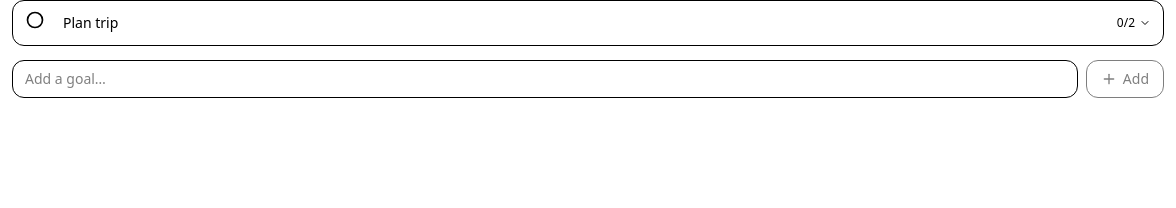
Test: GoalsList - Subtasks › shows existing subtasks exactly once after committing a new one
Click the button named "Show subtasks" at (1134,23), box [1117,15,1151,31]
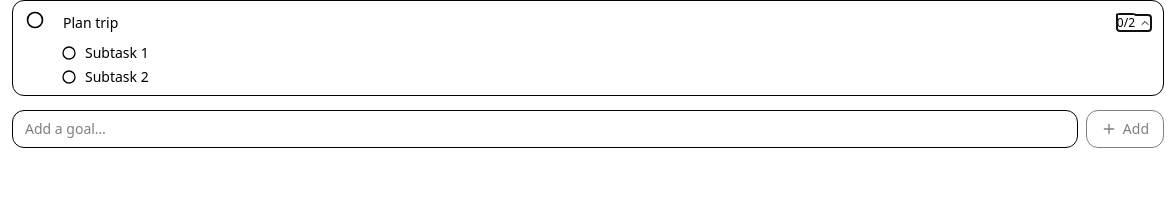
Click the button "Plan trip" at (91,22), box [55,9,1107,37]
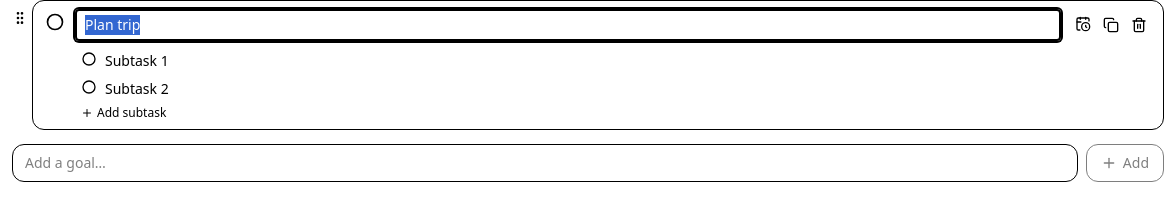
Click the button "Add subtask" at (124,113), box [81,105,166,121]
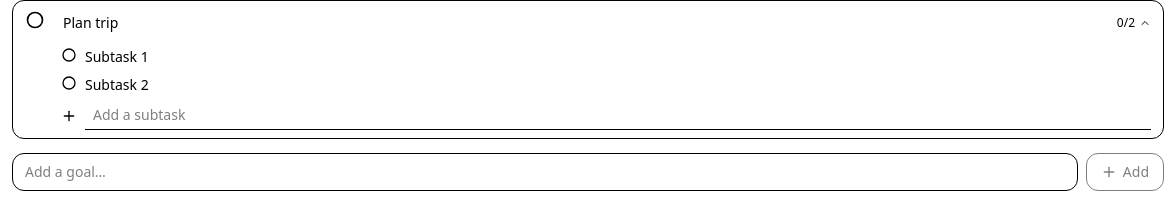
Type "Book flights" into the field labelled "Add a subtask" at (618,116), box [85,101,1151,130]
Then press Enter
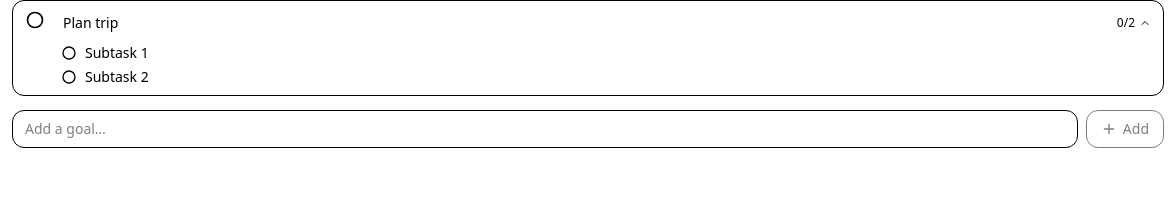
Expected: the field labelled "Add a subtask" is not shown
Now the text "Subtask 1" is shown once, box [85,43,149,63]
